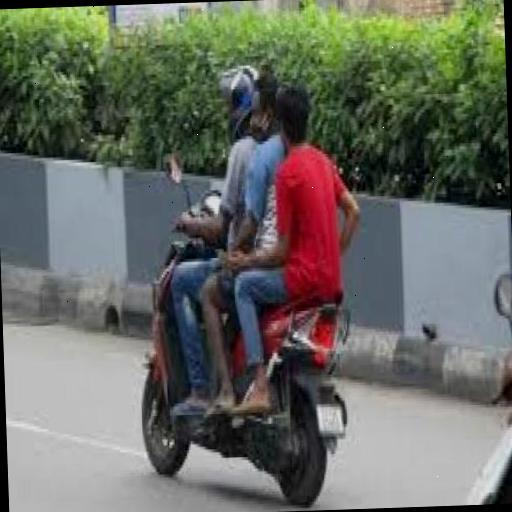no helmet: (221, 64, 260, 194)
triple riding: (122, 52, 365, 446)
